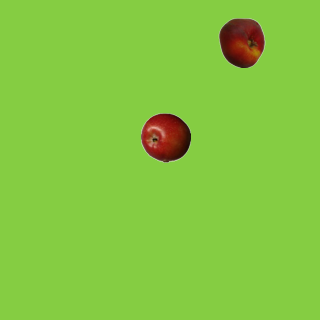Apple Braeburn: (140, 112, 190, 162)
Nectarine Flat: (216, 17, 266, 67)
